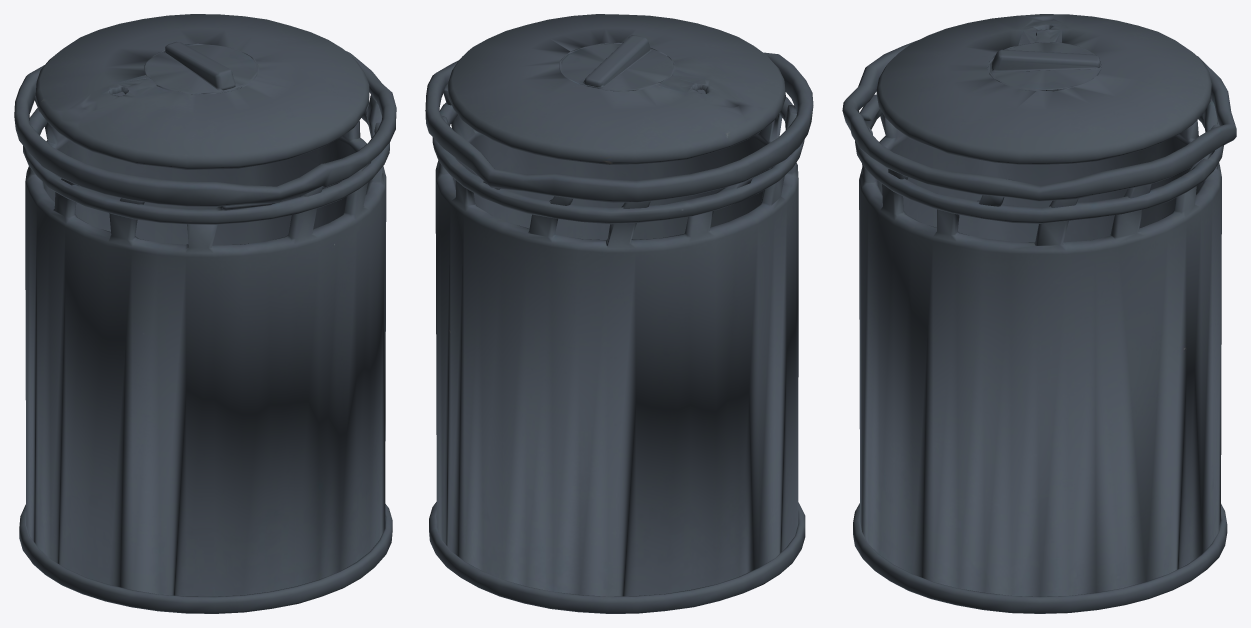
The model's file is trash_bin.glb.
3 renders of one model, left to right at view 1: azimuth 30°, elevation 25°; view 2: azimuth 150°, elevation 25°; view 3: azimuth 270°, elevation 25°, orthographic.
Visible parts, largest first — view 1: tripo_node_2ebd0525-0a7e-4a23-8e1b-e917e3b58955; view 2: tripo_node_2ebd0525-0a7e-4a23-8e1b-e917e3b58955; view 3: tripo_node_2ebd0525-0a7e-4a23-8e1b-e917e3b58955.
Boxes of the visible parts, x1=… form: tripo_node_2ebd0525-0a7e-4a23-8e1b-e917e3b58955: x1=14, y1=14, x2=396, y2=613; tripo_node_2ebd0525-0a7e-4a23-8e1b-e917e3b58955: x1=425, y1=14, x2=813, y2=613; tripo_node_2ebd0525-0a7e-4a23-8e1b-e917e3b58955: x1=842, y1=14, x2=1236, y2=613.
Size of the model in its own units: 0.584 by 0.8 by 0.5933.
1 material, 1 textured.
